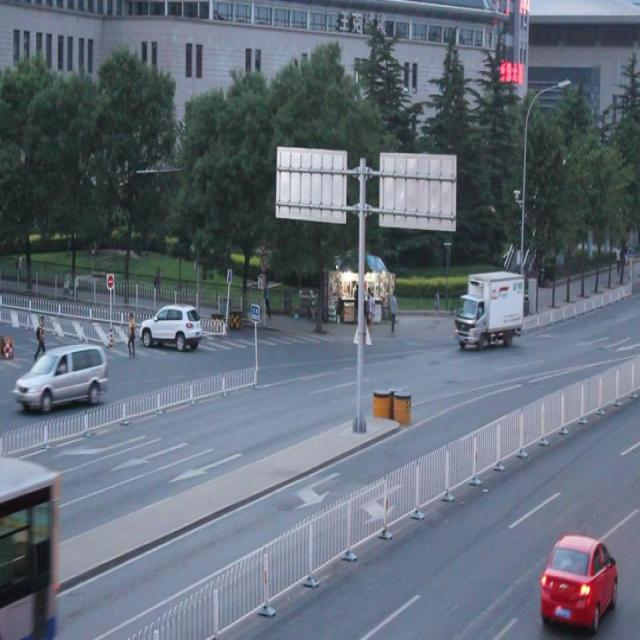bus: (457, 266, 522, 348)
car: (536, 532, 615, 626), (18, 347, 108, 408), (138, 302, 201, 350)
van: (1, 449, 56, 640)
